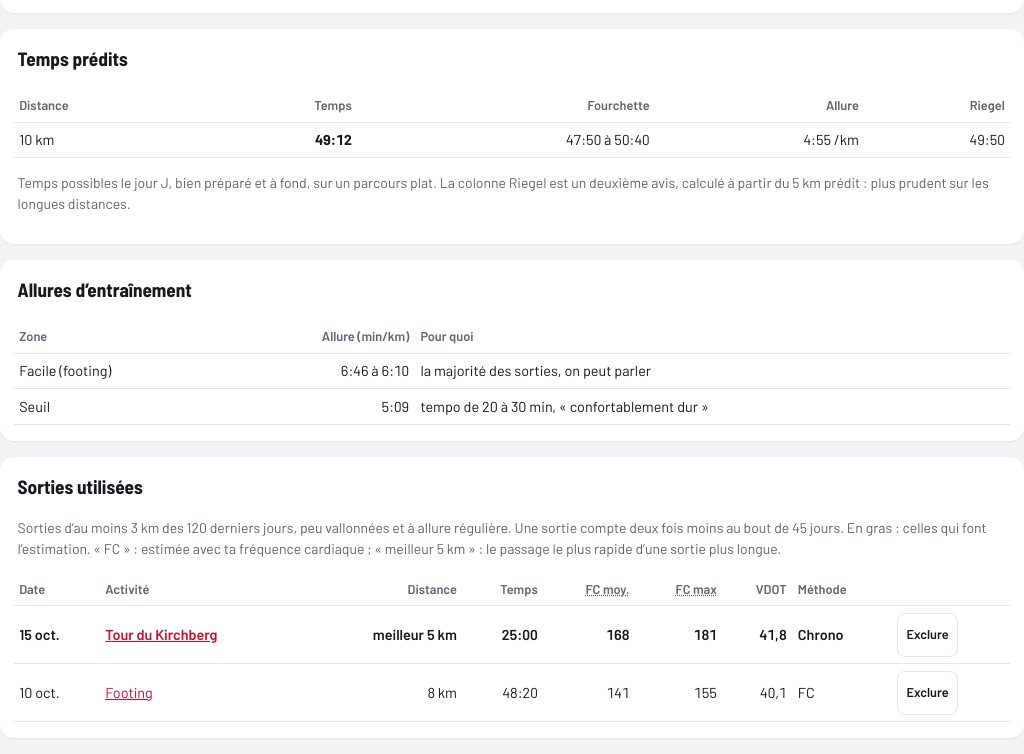
RacePage › leaves a run out of the estimate
(page scrolled)
Click the button with aria-label "Exclure Footing": (928, 693) [898,671,958,715]
(page scrolled)
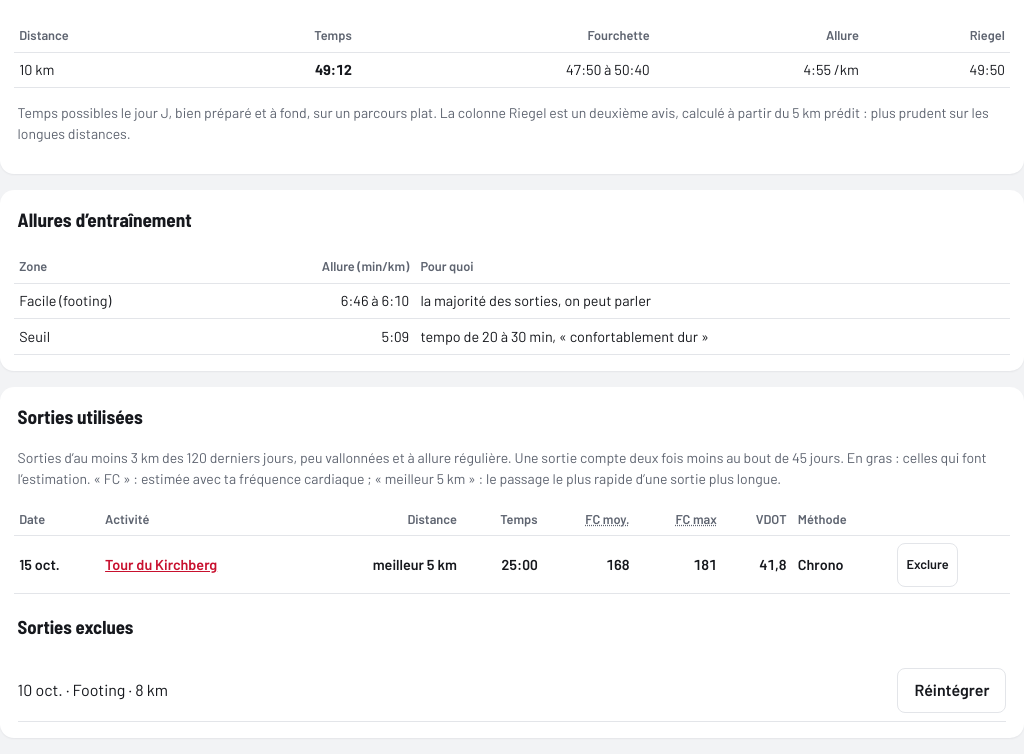
Check: the button with aria-label "Réintégrer Footing" is shown, box [898,668,1006,713]
